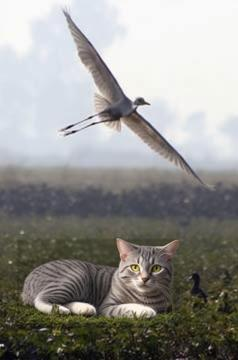bird: (58, 10, 216, 193)
cat: (17, 239, 178, 327)
